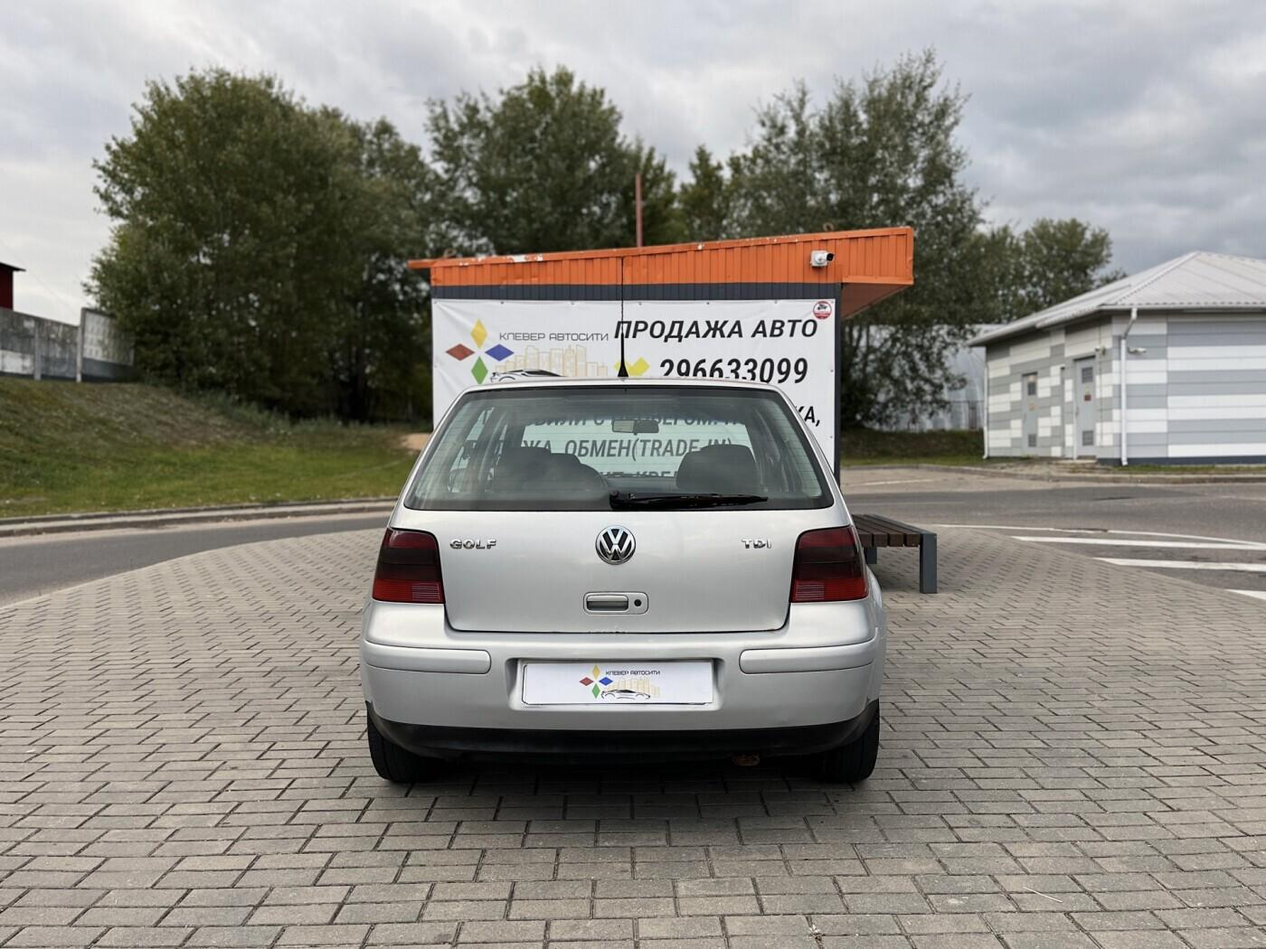Golf_1997-2006: (354, 378, 899, 795)
